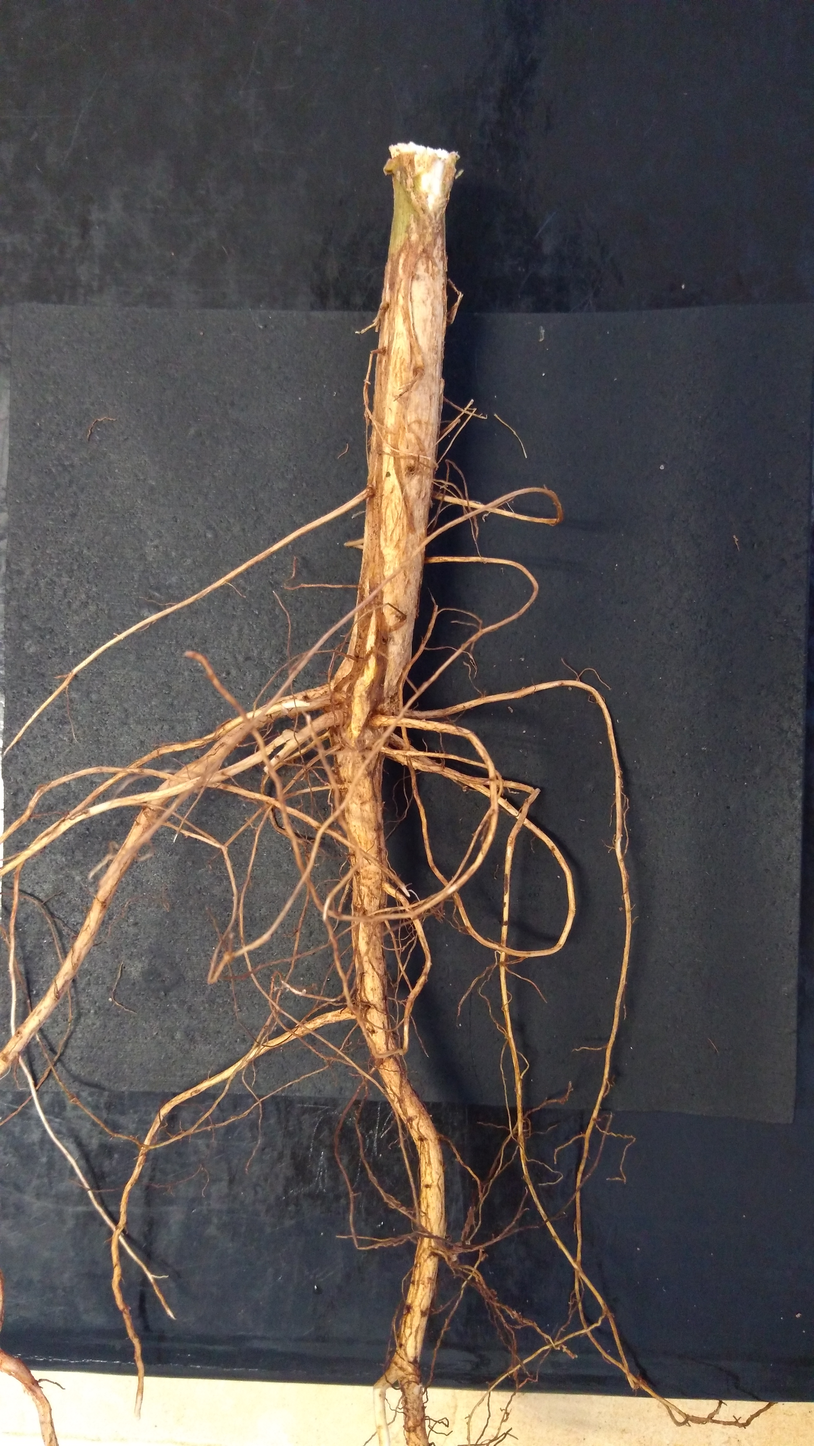nodule: (383, 157, 400, 176), (282, 728, 298, 748), (451, 1241, 462, 1261), (462, 785, 467, 793)
